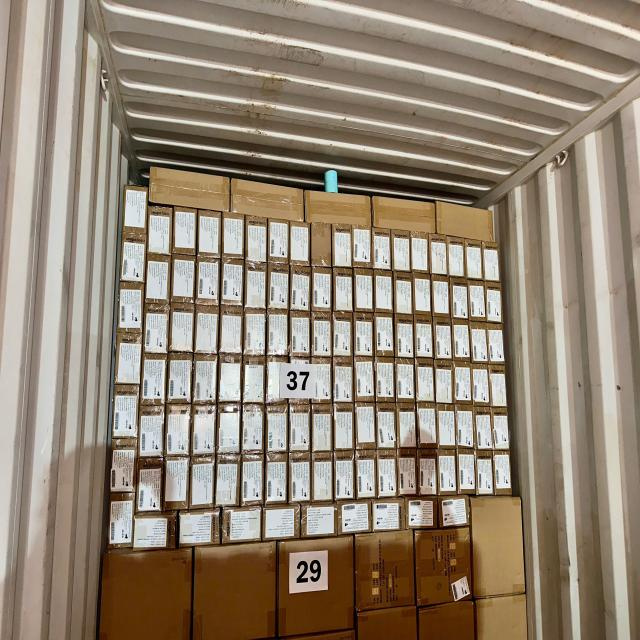Carton: (194, 546, 275, 640), (103, 552, 191, 636), (277, 542, 355, 631), (472, 498, 524, 596), (354, 532, 416, 606), (415, 526, 470, 602), (149, 165, 230, 213), (230, 176, 305, 222), (373, 193, 435, 236), (436, 199, 494, 244), (475, 590, 527, 640), (303, 192, 374, 226), (418, 604, 474, 640), (356, 610, 416, 640), (132, 513, 177, 551), (220, 506, 263, 544), (111, 388, 141, 442), (110, 442, 138, 496), (115, 333, 144, 385), (108, 496, 135, 550), (179, 511, 220, 546), (190, 455, 216, 510), (136, 458, 160, 516), (123, 185, 149, 237), (372, 496, 406, 535), (288, 401, 313, 454), (172, 206, 198, 256), (118, 284, 144, 334), (142, 358, 168, 408), (195, 210, 222, 258), (164, 456, 188, 510), (216, 454, 240, 508), (139, 406, 164, 457), (218, 404, 242, 457), (264, 507, 301, 541), (166, 404, 190, 456), (243, 356, 268, 405), (169, 357, 194, 406), (311, 452, 335, 503), (301, 505, 337, 539), (242, 453, 265, 506), (146, 254, 170, 304), (171, 255, 196, 303), (243, 402, 265, 456), (218, 356, 243, 403), (375, 449, 398, 500), (266, 453, 288, 506), (192, 406, 216, 454), (355, 452, 379, 500), (332, 270, 357, 316), (354, 402, 377, 452), (417, 449, 440, 499), (266, 401, 288, 453), (120, 235, 144, 282), (372, 269, 396, 316), (194, 357, 217, 406), (309, 224, 334, 269), (170, 311, 195, 356), (148, 207, 172, 253), (289, 220, 312, 268), (310, 268, 334, 314), (196, 259, 220, 305), (435, 404, 458, 452), (223, 212, 245, 262), (312, 402, 334, 452), (290, 454, 312, 504), (195, 309, 218, 356), (220, 309, 242, 358), (438, 449, 460, 498), (268, 220, 291, 266), (145, 308, 167, 356), (245, 262, 267, 310), (267, 313, 291, 357), (374, 358, 398, 402), (354, 360, 378, 404), (312, 358, 336, 402), (290, 359, 314, 403), (267, 359, 291, 403), (376, 402, 398, 450), (335, 453, 357, 501), (334, 402, 355, 452), (338, 502, 373, 532), (333, 358, 357, 401), (352, 223, 373, 272), (406, 498, 439, 529), (245, 220, 268, 264), (392, 273, 414, 319), (244, 310, 267, 354), (289, 312, 312, 356), (397, 402, 419, 448), (490, 407, 512, 453), (418, 402, 438, 452), (458, 449, 478, 499), (431, 277, 453, 322), (290, 267, 312, 312), (396, 359, 418, 404), (398, 450, 418, 499), (494, 449, 514, 498), (476, 448, 495, 499), (332, 224, 354, 268), (393, 317, 416, 359), (487, 366, 510, 408), (438, 498, 472, 526), (466, 280, 488, 323), (269, 266, 290, 311), (312, 314, 333, 359), (412, 274, 434, 316), (354, 318, 376, 360), (471, 364, 492, 408), (434, 364, 457, 404), (453, 363, 474, 406), (482, 283, 504, 324), (451, 278, 471, 323), (456, 405, 475, 452), (375, 316, 396, 358), (355, 269, 375, 313), (222, 262, 242, 306), (473, 408, 493, 452), (485, 326, 508, 364), (391, 231, 412, 272), (417, 363, 438, 404), (409, 232, 429, 275), (429, 236, 449, 278), (334, 316, 354, 358), (415, 318, 435, 359), (469, 324, 489, 365), (433, 322, 453, 362), (372, 229, 391, 271), (483, 241, 502, 282), (452, 323, 471, 363), (447, 240, 466, 278), (465, 243, 484, 281)
